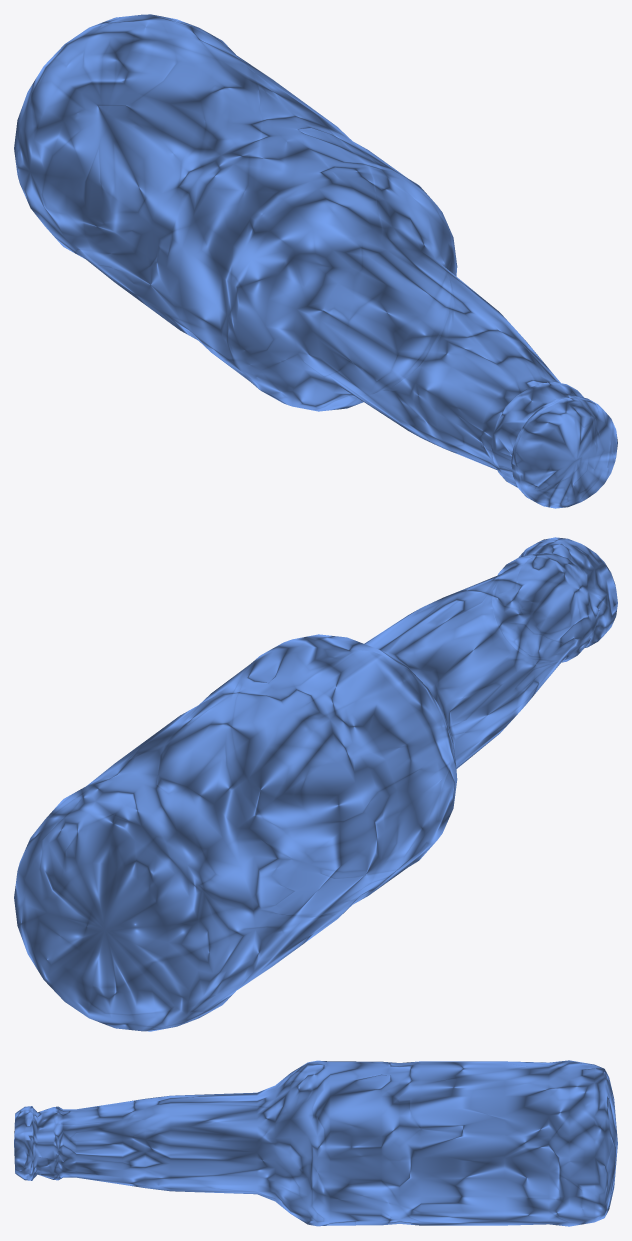
The model's file is model_align.obj.
The picture shows the model from 3 angles, top to bottom: view 1: azimuth 30°, elevation 25°; view 2: azimuth 150°, elevation 25°; view 3: azimuth 270°, elevation 25°; orthographic projection. The views are drawn at different scales.
Size of the model in its own units: 0.0401 by 0.0401 by 0.1452.
